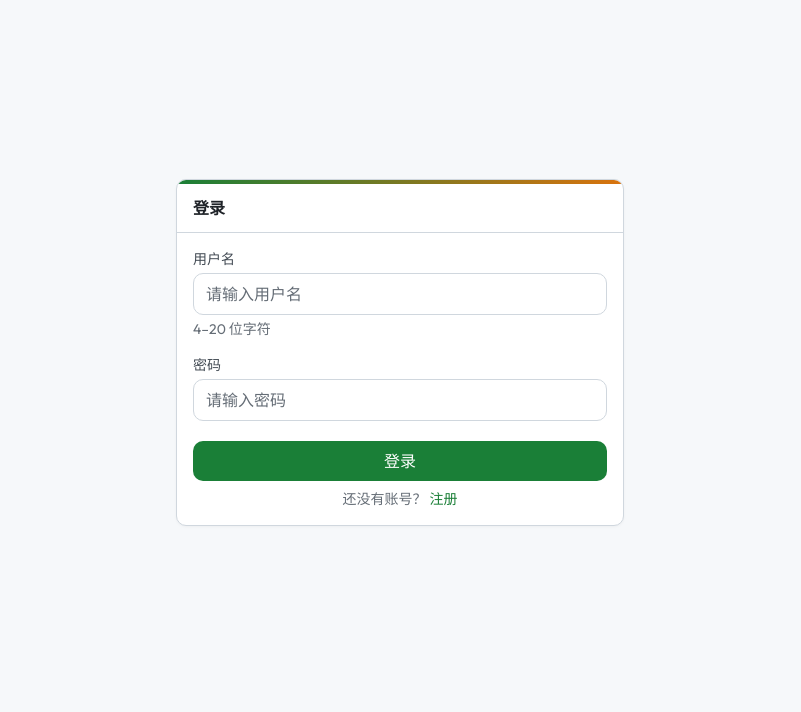
Scheduled Transfer Flow › should_show_new_form_when_click_create_button
Type "e2euser" into the field labelled "用户名" at (400, 294), box [193, 273, 607, 315]
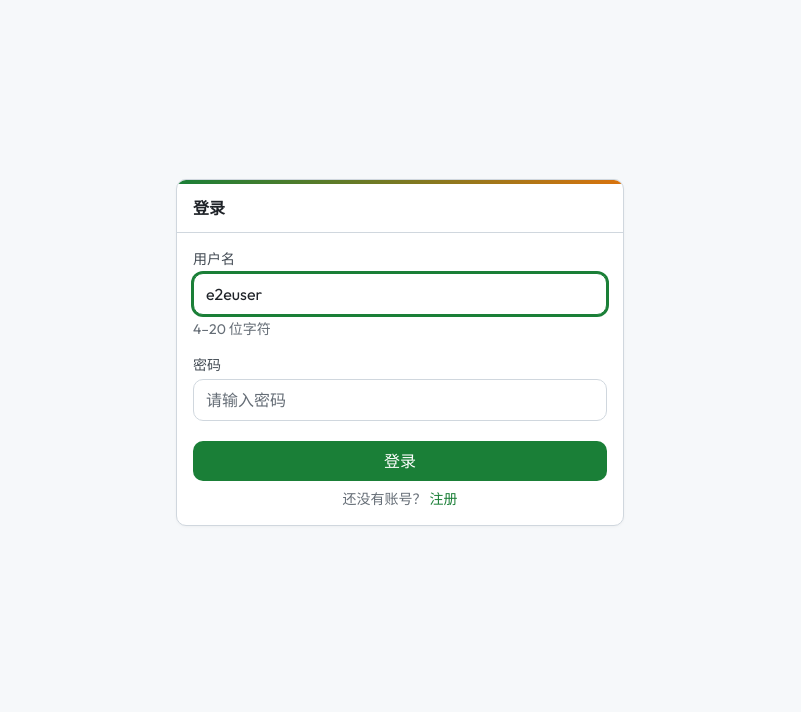
Type "password1" into the password field labelled "密码" at (400, 400), box [193, 379, 607, 421]
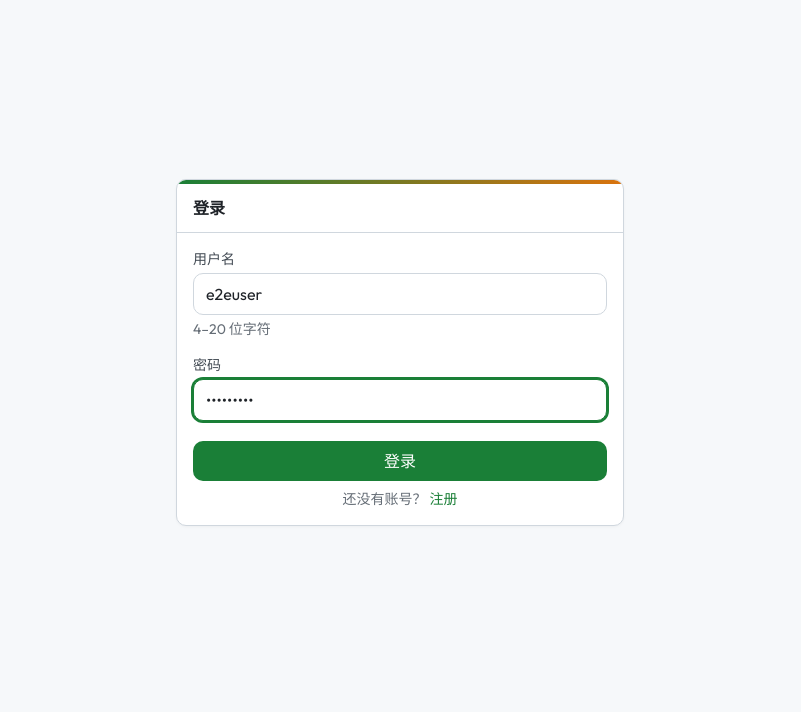
Click the submit button at (400, 461), box [193, 441, 607, 481]
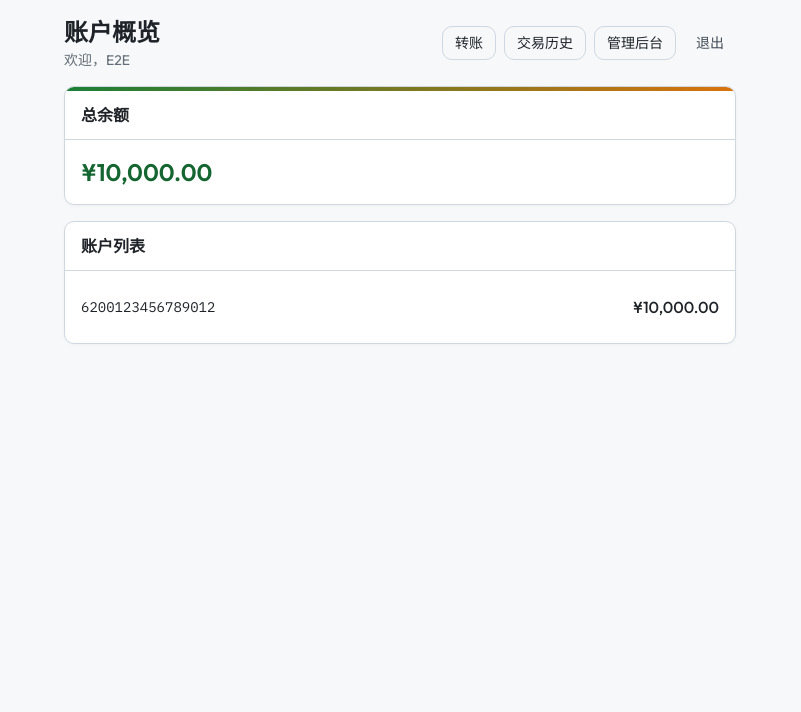
Open "/scheduled-transfer"
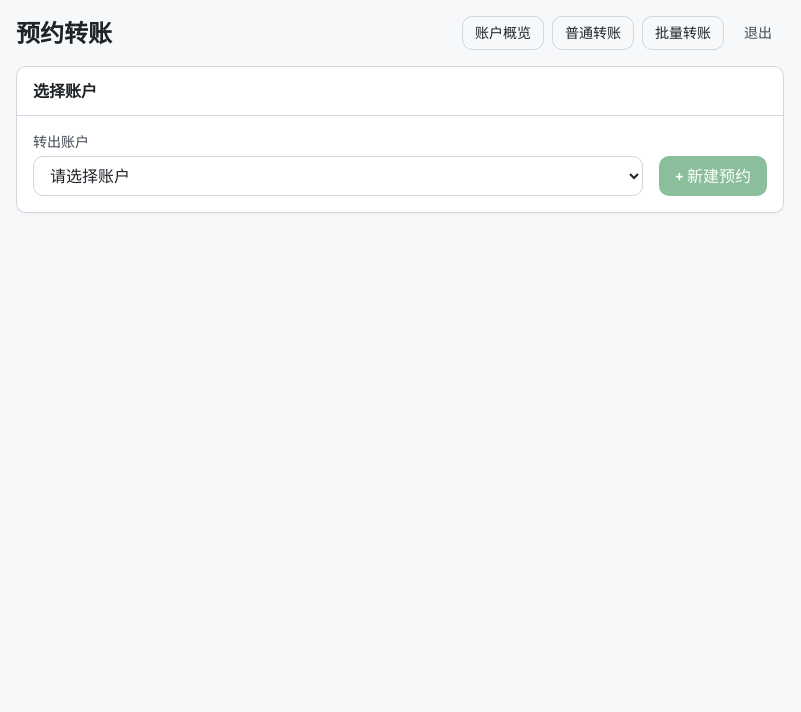
Select "6200123456789012（余额: 10000 CNY）" in the dropdown at (338, 176), box [33, 156, 643, 196]
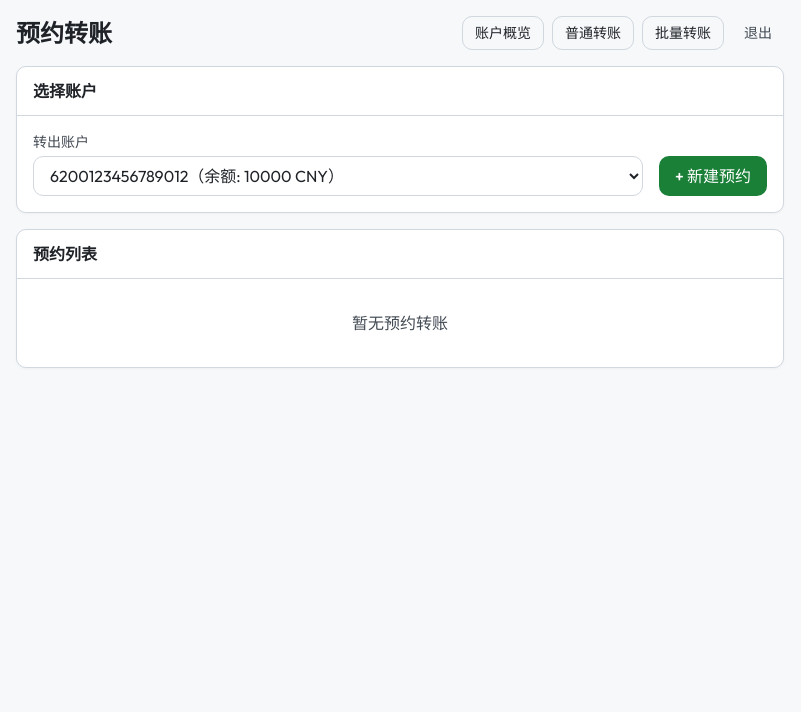
Click the button "+ 新建预约" at (713, 176), box [659, 156, 767, 196]
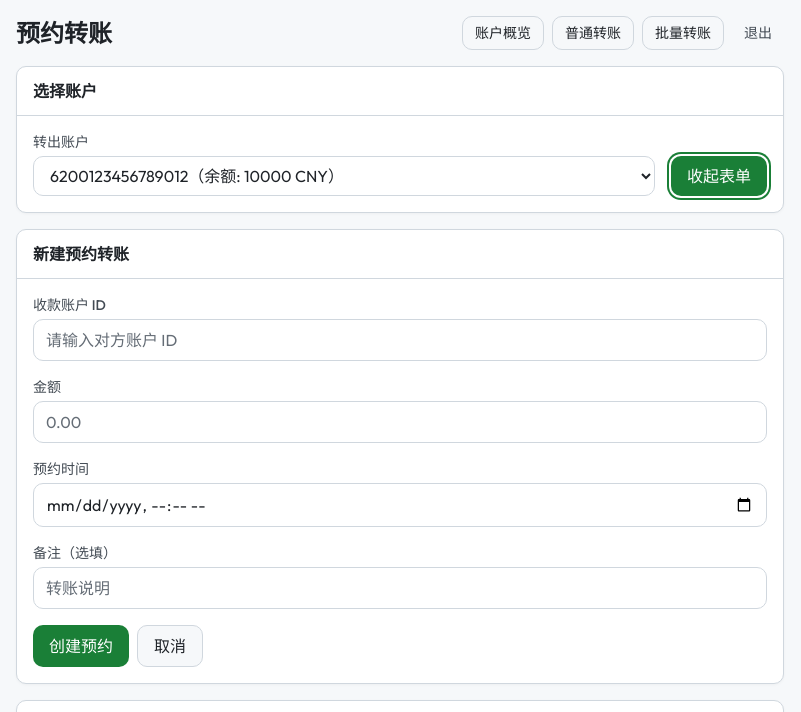
Result: the heading "新建预约转账" is shown at [33, 244, 129, 264]
Result: the field with id "toAccountId" is shown at [33, 319, 767, 361]
Result: the field with id "amount" is shown at [33, 401, 767, 443]
